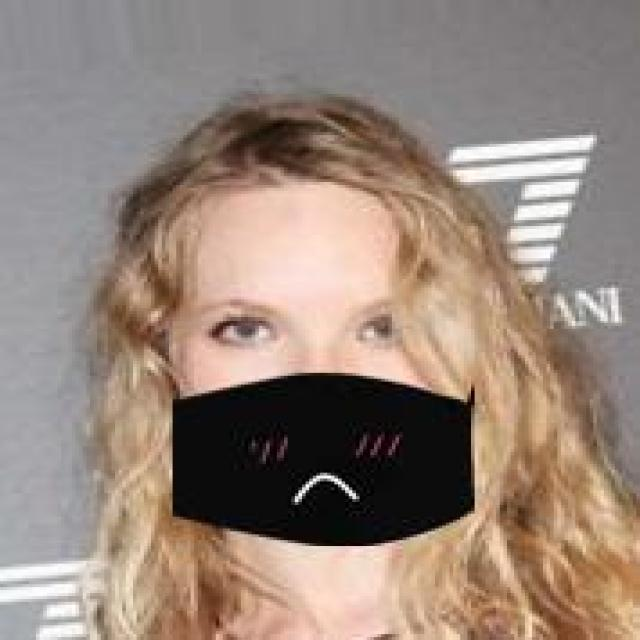mask: (126, 141, 528, 569)
